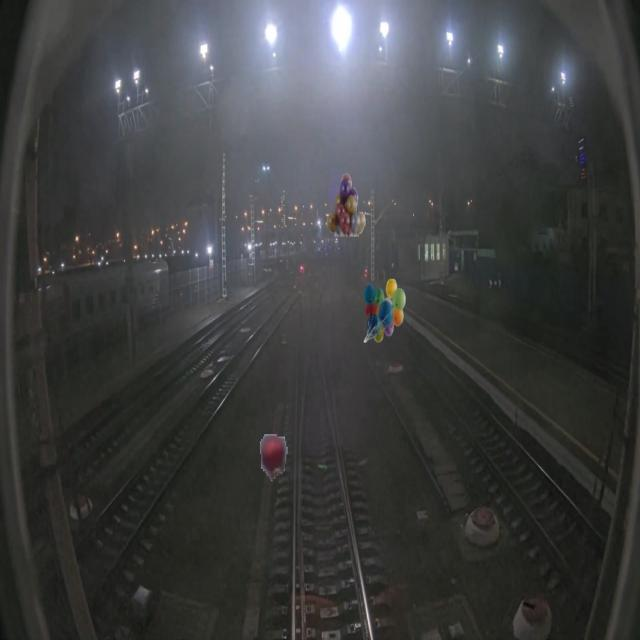balloon: (364, 278, 406, 342), (326, 172, 366, 236)
plastic bag: (253, 429, 292, 493)
